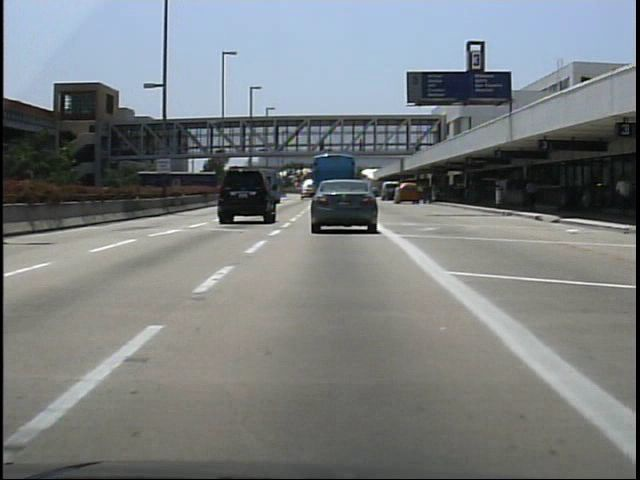person: (611, 168, 631, 221), (522, 173, 542, 215), (420, 179, 436, 207), (392, 181, 408, 208), (317, 133, 330, 154), (355, 136, 368, 157)
